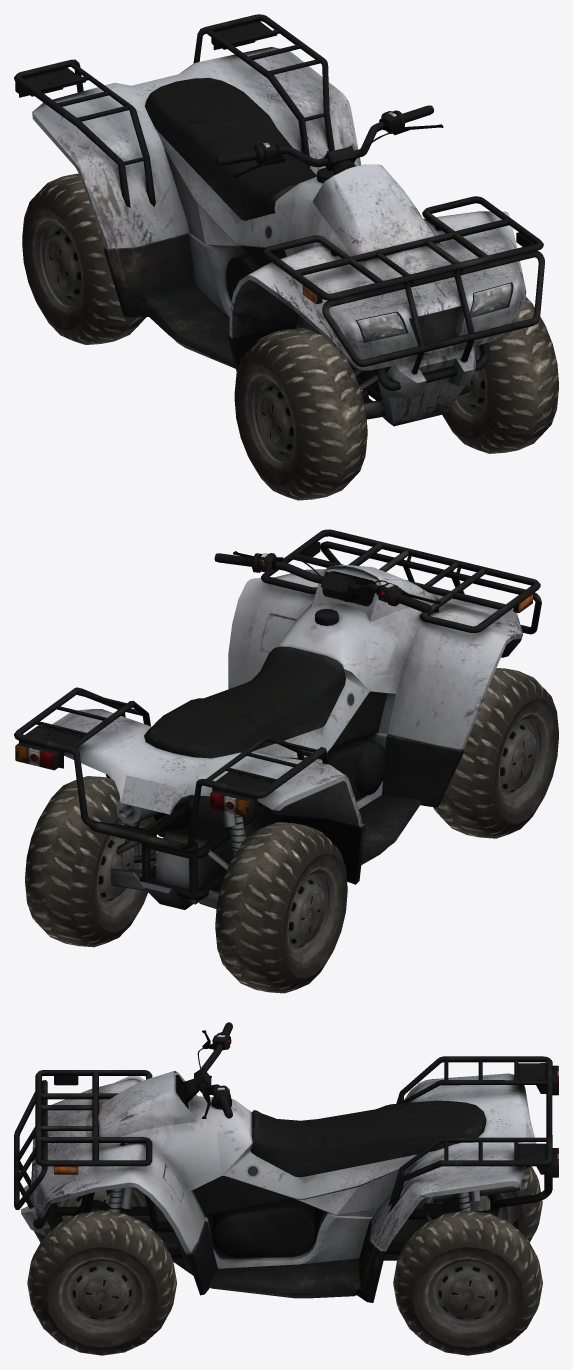
File: quadbike.glb
The picture shows the model from 3 angles, top to bottom: view 1: azimuth 30°, elevation 25°; view 2: azimuth 150°, elevation 25°; view 3: azimuth 270°, elevation 25°; orthographic projection. The views are drawn at different scales.
Visible parts, largest first — view 1: Body, Wheel, Wheel2, Wheel4, Parts, Handle, Lights; view 2: Body, Wheel2, Wheel3, Wheel, Parts, Handle, Lights; view 3: Body, Wheel3, Wheel4, Parts, Handle, Wheel2, Wheel.
Boxes of the visible parts, left/top/right/bottom form: Body: left=14, top=14, right=544, bottom=426; Wheel: left=234, top=328, right=367, bottom=500; Wheel2: left=22, top=173, right=146, bottom=344; Wheel4: left=442, top=297, right=558, bottom=453; Parts: left=284, top=164, right=421, bottom=256; Handle: left=216, top=105, right=443, bottom=177; Lights: left=211, top=37, right=511, bottom=341; Body: left=14, top=529, right=541, bottom=909; Wheel2: left=215, top=822, right=347, bottom=993; Wheel3: left=25, top=776, right=156, bottom=947; Wheel: left=433, top=668, right=558, bottom=838; Parts: left=120, top=565, right=413, bottom=814; Handle: left=214, top=551, right=440, bottom=613; Lights: left=15, top=745, right=250, bottom=817; Body: left=14, top=1056, right=557, bottom=1302; Wheel3: left=393, top=1210, right=542, bottom=1355; Wheel4: left=27, top=1210, right=176, bottom=1355; Parts: left=111, top=1071, right=536, bottom=1190; Handle: left=178, top=1022, right=232, bottom=1118; Wheel2: left=424, top=1166, right=542, bottom=1242; Wheel: left=27, top=1187, right=147, bottom=1242.
Bounding box in the file's own units: 2.57 × 2.64 × 5.21.
Materials: 2 (2 with a texture image).
